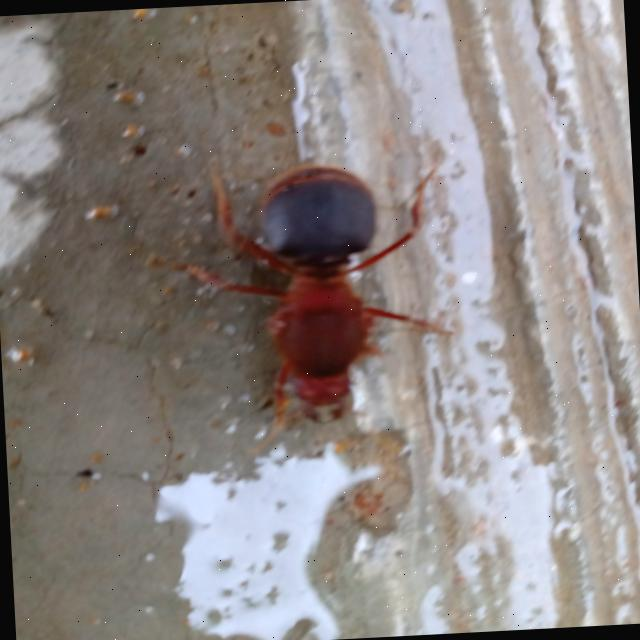Alive-Female-Dealate: (165, 146, 459, 458)
